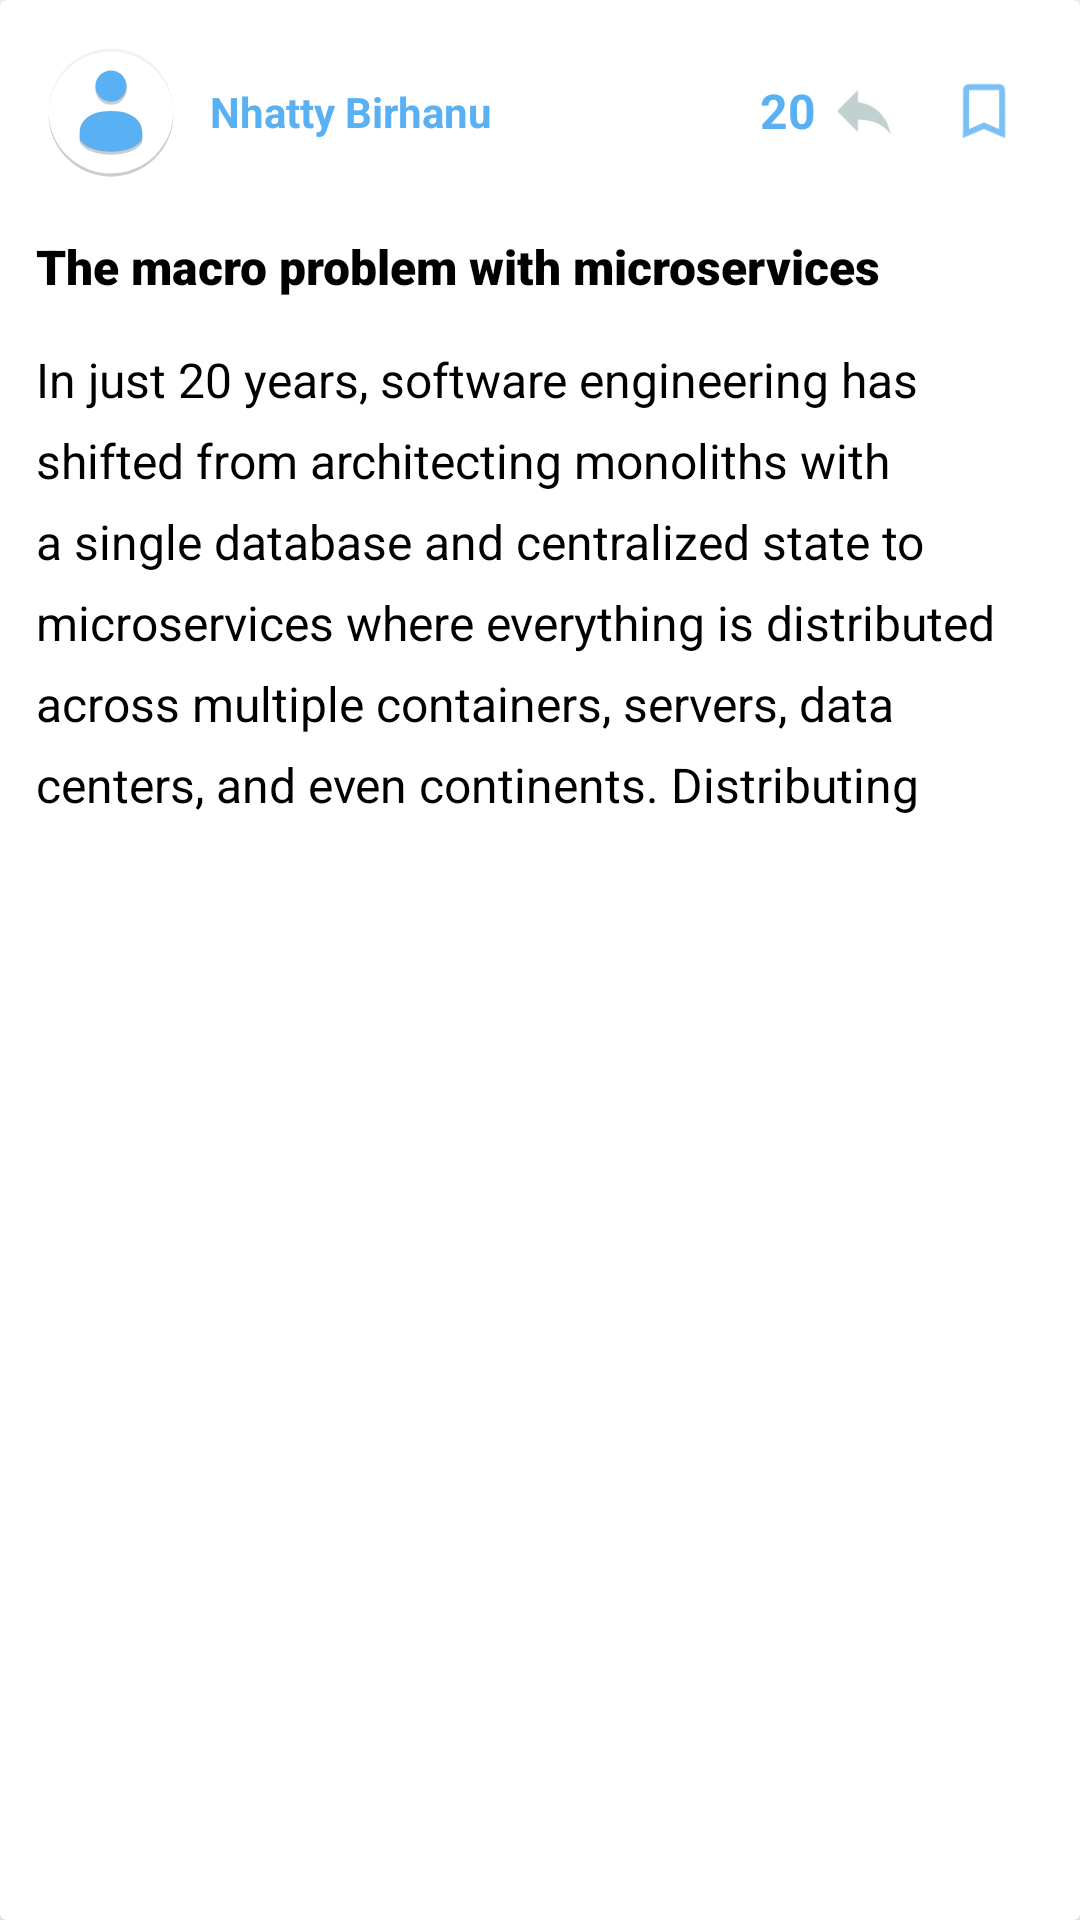

Where to tap for icons on this 1080×1920 app screen, as (x=x, y=y):
save: (x=984, y=111)
